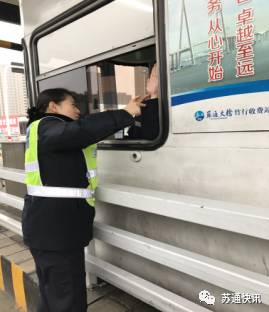handsup: (18, 88, 168, 306)
